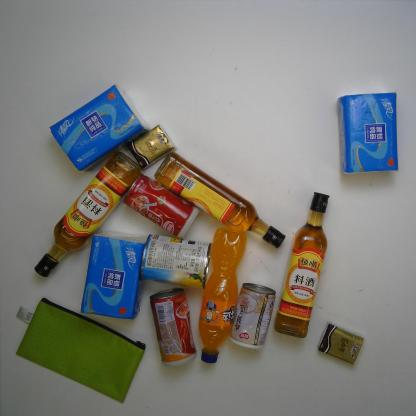Canned Food: (122, 173, 200, 239), (140, 227, 214, 289), (149, 288, 198, 368), (228, 282, 276, 350)
Drink: (198, 227, 248, 364)
Seasoner: (34, 151, 144, 278), (154, 151, 286, 249), (273, 191, 330, 339)
Stationery: (14, 297, 146, 404)
Tissue: (48, 82, 150, 172), (78, 231, 148, 320), (337, 91, 399, 174), (125, 124, 178, 169), (317, 322, 365, 365)
